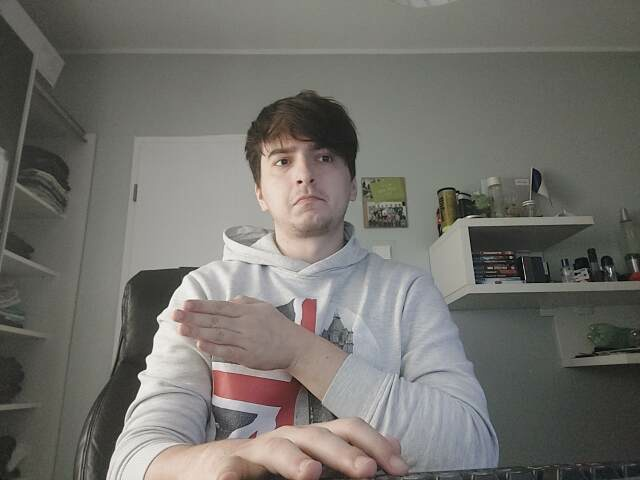please: (173, 295, 294, 371)
